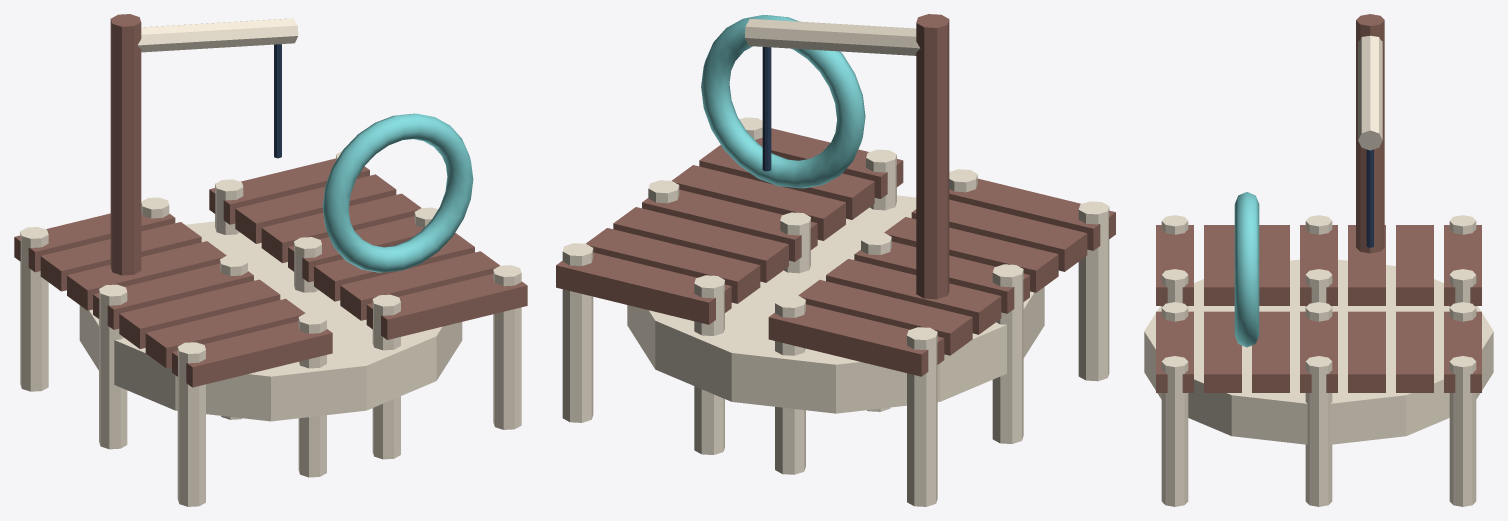
The model's file is drydock.glb.
3 views of the same model, side by side, from view 1: azimuth 30°, elevation 25°; view 2: azimuth 150°, elevation 25°; view 3: azimuth 270°, elevation 25° (orthographic). The views are drawn at different scales.
Parts seen in each view (by area): view 1: Building foundation, Spiral drydock wheel, Crane mast, Quay plank.007, Quay plank, Stilt, Quay plank.002, Stilt.002, Quay plank.001, Quay plank.008, Crane arm, Stilt.009 (+16 smaller); view 2: Building foundation, Spiral drydock wheel, Crane mast, Quay plank.006, Quay plank.013, Quay plank.011, Stilt, Stilt.002, Quay plank.012, Quay plank.005, Quay plank.009, Crane arm (+17 smaller); view 3: Building foundation, Stilt.009, Stilt.011, Spiral drydock wheel, Stilt.010, Crane mast, Quay plank.011, Quay plank.012, Quay plank.005, Quay plank.008, Quay plank.009, Crane arm (+19 smaller).
Boxes of the visible parts, x1,y1,x2,y2 form: Building foundation: [79, 221, 462, 421]; Spiral drydock wheel: [322, 113, 473, 272]; Crane mast: [110, 14, 141, 275]; Quay plank.007: [366, 274, 527, 339]; Quay plank: [172, 321, 332, 387]; Stilt: [177, 342, 205, 506]; Quay plank.002: [119, 279, 280, 348]; Stilt.002: [20, 227, 48, 391]; Quay plank.001: [145, 298, 305, 368]; Quay plank.008: [340, 251, 499, 320]; Crane arm: [137, 18, 298, 52]; Stilt.009: [493, 265, 521, 429]; Building foundation: [627, 195, 1044, 413]; Spiral drydock wheel: [701, 15, 865, 188]; Crane mast: [916, 14, 949, 299]; Quay plank.006: [768, 304, 944, 376]; Quay plank.013: [556, 252, 731, 324]; Quay plank.011: [613, 207, 788, 282]; Stilt: [1078, 201, 1109, 381]; Stilt.002: [907, 327, 937, 506]; Quay plank.012: [586, 228, 760, 303]; Quay plank.005: [798, 280, 972, 355]; Quay plank.009: [671, 165, 845, 240]; Crane arm: [745, 19, 920, 55]; Building foundation: [1144, 259, 1493, 444]; Stilt.009: [1161, 356, 1188, 506]; Stilt.011: [1449, 356, 1476, 506]; Spiral drydock wheel: [1234, 192, 1259, 347]; Stilt.010: [1305, 356, 1332, 506]; Crane mast: [1356, 14, 1384, 253]; Quay plank.011: [1348, 311, 1385, 392]; Quay plank.012: [1396, 311, 1433, 392]; Quay plank.005: [1396, 225, 1433, 305]; Quay plank.008: [1204, 311, 1241, 392]; Quay plank.009: [1252, 311, 1289, 392]; Crane arm: [1358, 35, 1382, 150].
Size of the model in its own units: 0.0875 by 0.0963 by 0.085.
